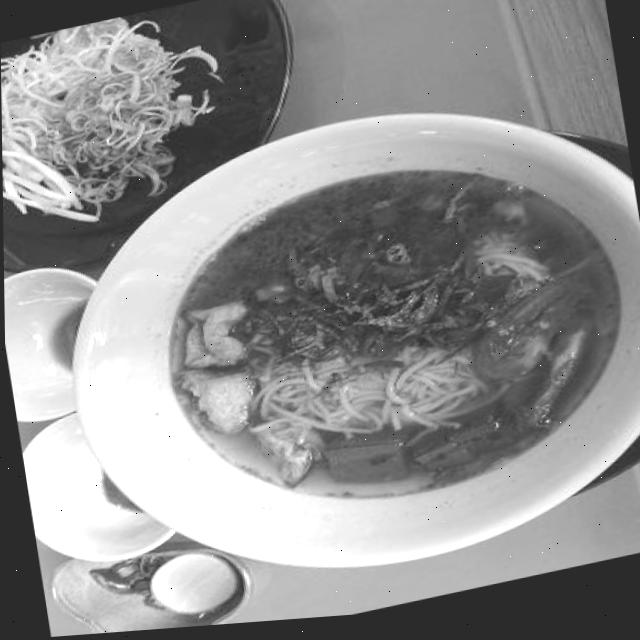面条主食: (35, 60, 640, 623)
